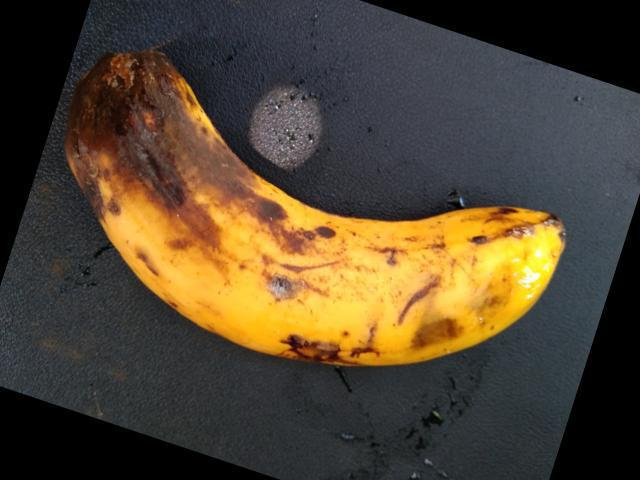rotten: (42, 38, 575, 406)
